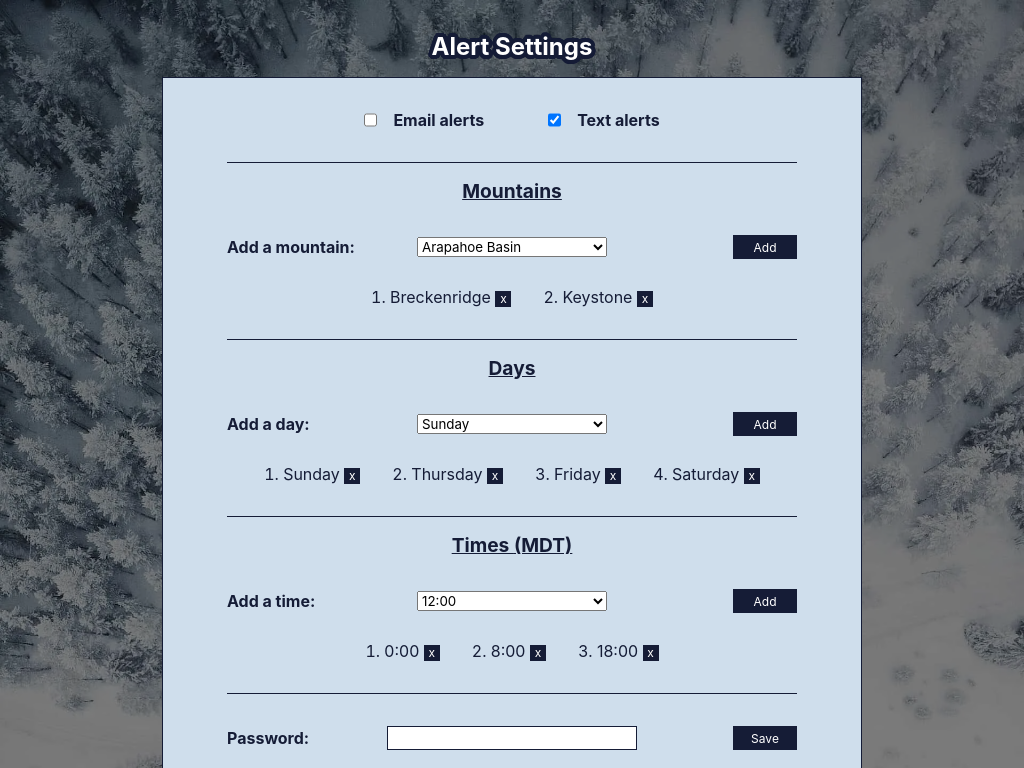
Test: Adds selected mountain to list on click
Expected: the list with test id "mountain-list" is shown, [371,291,653,307]
Select "Vail" in the dropdown labelled "Add a mountain:" at (512, 247), box [417,237,607,257]
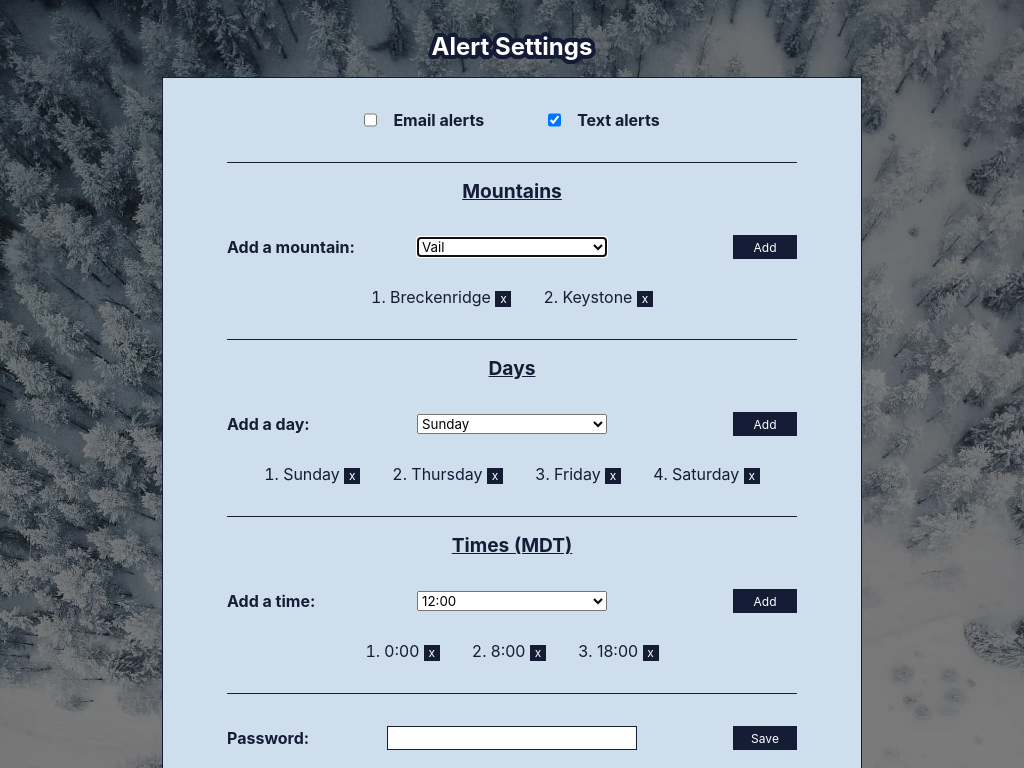
Click the button with test id "mountain-add".
click(765, 247)  # box [733,235,797,259]
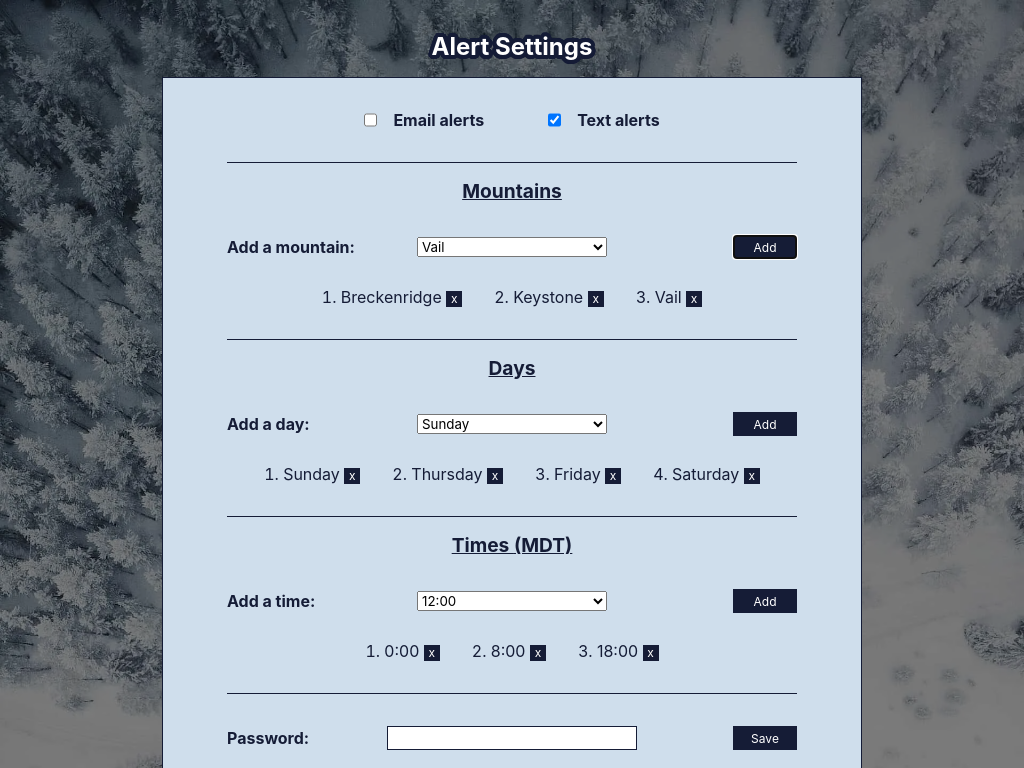
Now the list items read "Breckenridge x", "Keystone x", "Vail x", in this order, box [322,291,462,307]; [513,287,604,307]; [655,287,702,307]
